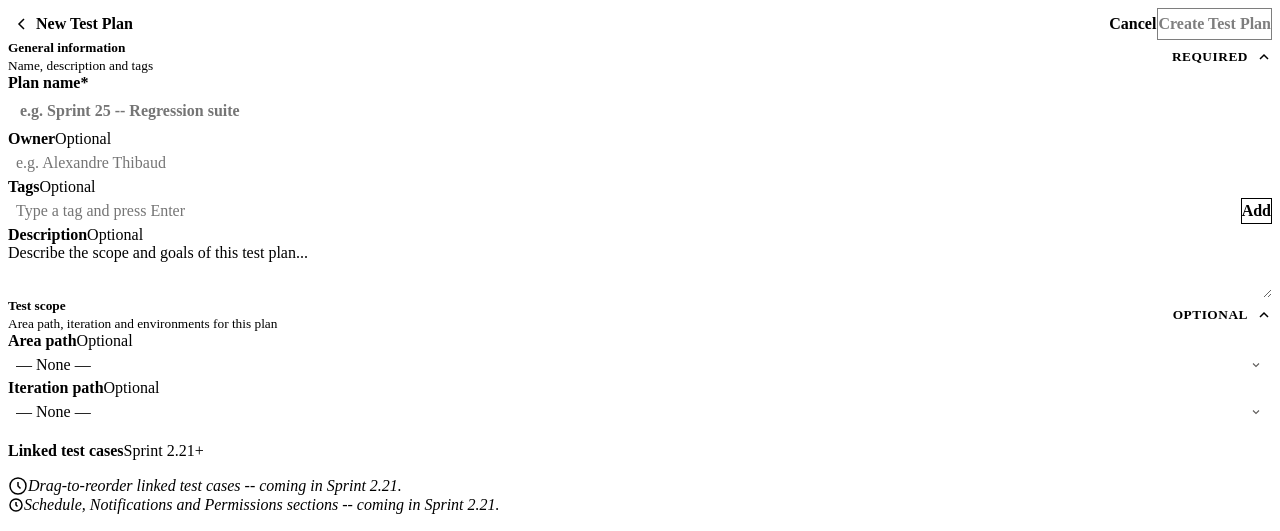
Test: TestPlanFormView (Sprint 2.18) › General information section shows Complete badge when name is filled
Type "Done" into the field labelled "Plan name *". click: (640,111)
box: [8,92,1272,130]
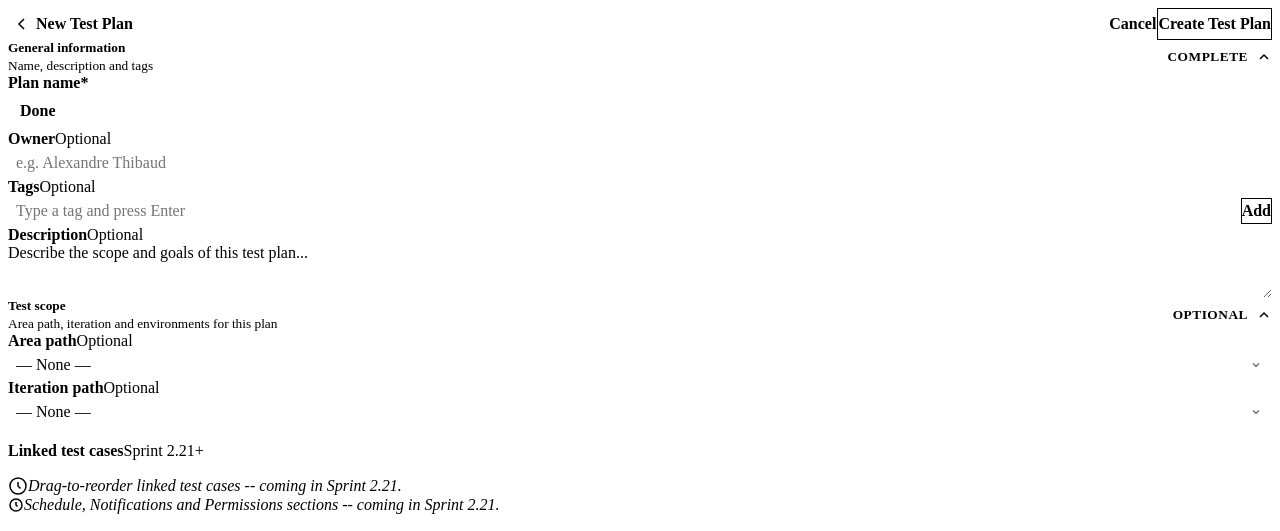
Expected: the text "Complete" is shown, [1168,49,1248,64]
